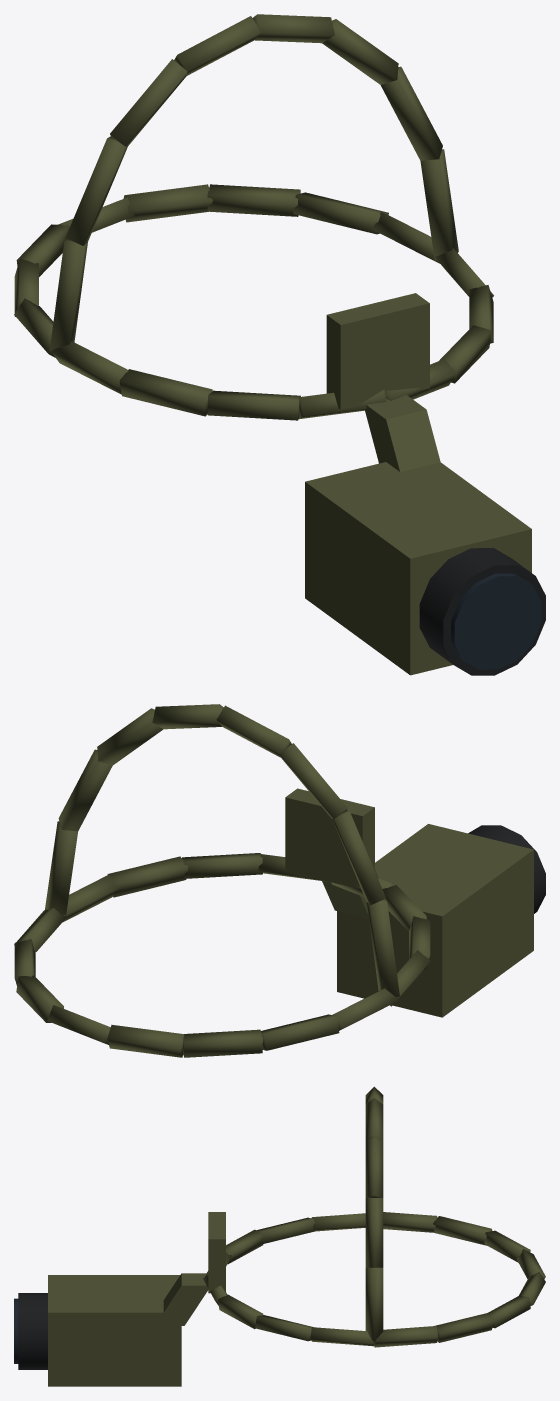
Rendered from thermal-sight.glb.
3 views of the same model, one above another, from view 1: azimuth 30°, elevation 25°; view 2: azimuth 150°, elevation 25°; view 3: azimuth 270°, elevation 25° (orthographic). The views are drawn at different scales.
Visible parts, largest first — view 1: thermal-sight; view 2: thermal-sight; view 3: thermal-sight.
Boxes of the visible parts, box(x1,y1,x2,y2) form: thermal-sight: box(14, 14, 545, 675); thermal-sight: box(14, 704, 545, 1057); thermal-sight: box(14, 1086, 545, 1386).
Size of the model in its own units: 0.2019 by 0.2108 by 0.3587.
Materials: 1 (1 with a texture image).
